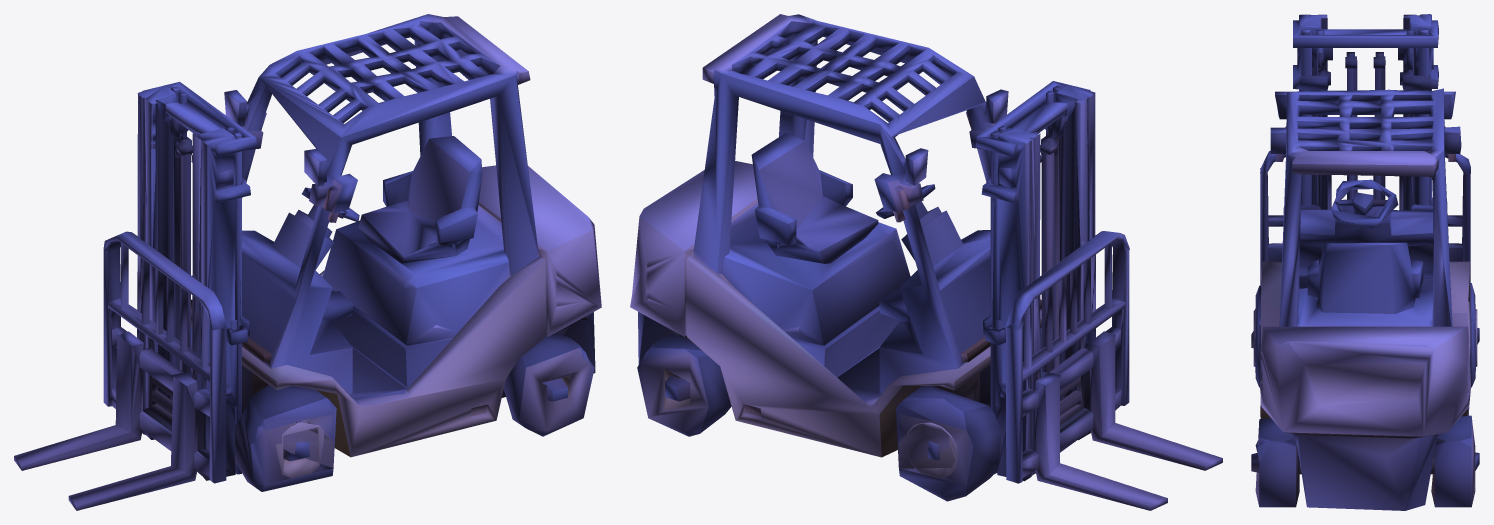
Rendered from model.progressive.glb.
3 renders of one model, left to right at view 1: azimuth 30°, elevation 25°; view 2: azimuth 150°, elevation 25°; view 3: azimuth 270°, elevation 25°, orthographic. The views are drawn at different scales.
Visible parts, largest first — view 1: mesh_input; view 2: mesh_input; view 3: mesh_input.
Boxes of the visible parts, x1,y1,x2,y2 form: mesh_input: (14, 14, 601, 510); mesh_input: (630, 14, 1222, 510); mesh_input: (1251, 14, 1479, 510).
Size of the model in its own units: 1.89 by 1.21 by 0.7383.
1 material, 1 textured.
